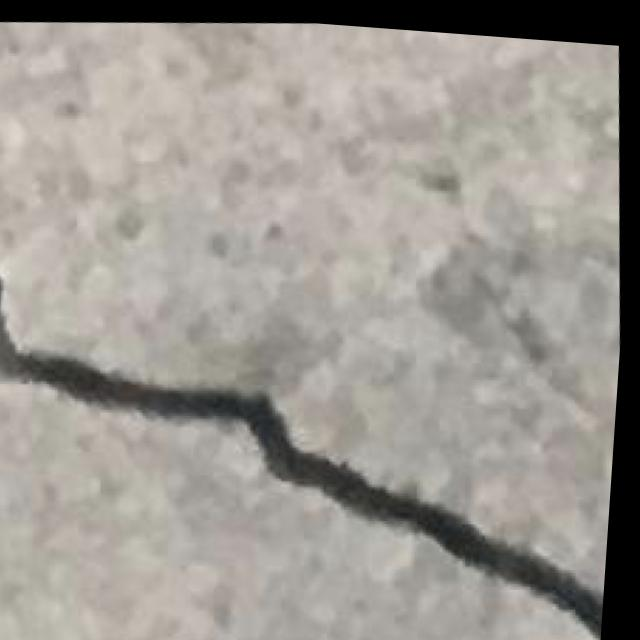Crack: (0, 209, 629, 640)
